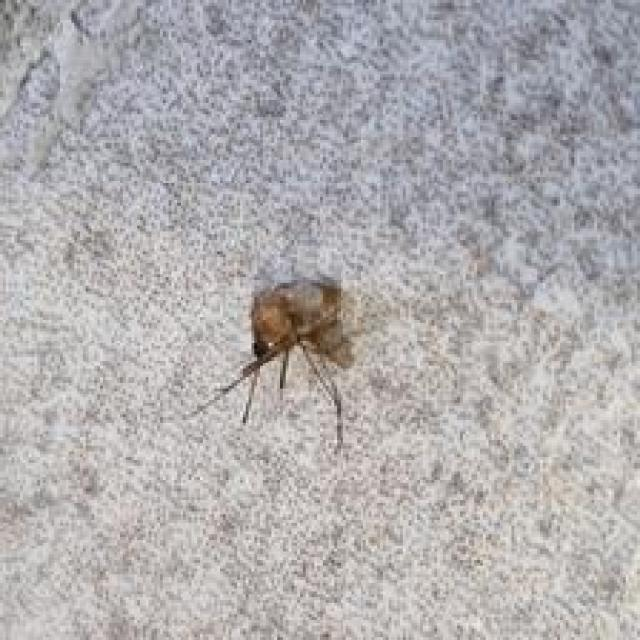Culex: (186, 270, 360, 453)
